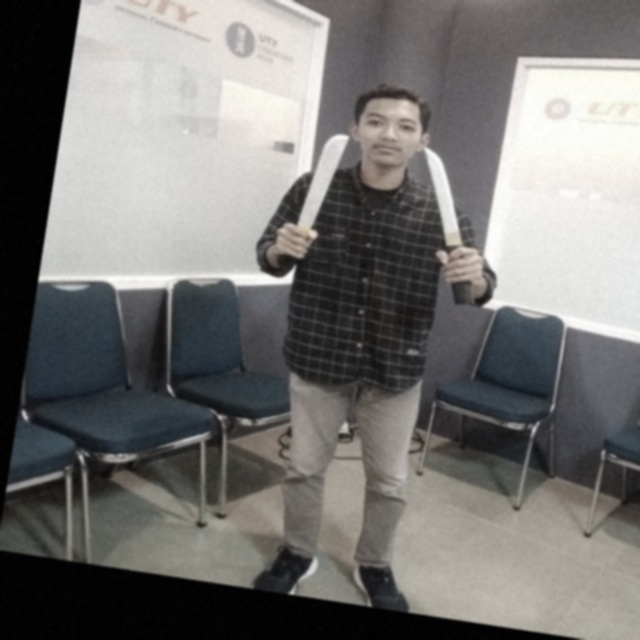Sharp-Object: (398, 144, 498, 310), (269, 123, 355, 278)
